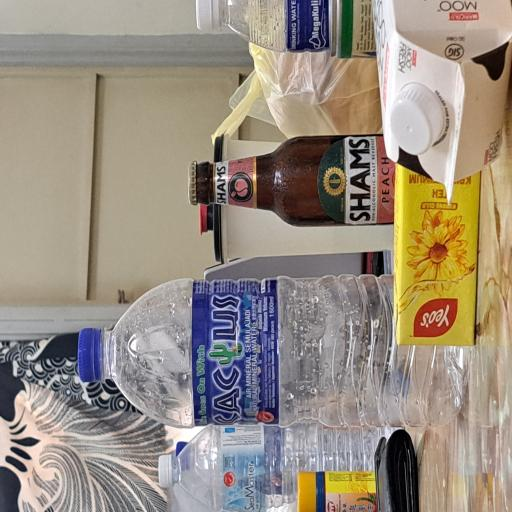can: (342, 436, 384, 503)
glass bottle: (213, 249, 284, 512)
plastic bottle: (64, 135, 179, 512), (0, 230, 66, 510), (344, 294, 384, 439)
plastic bottle cap: (96, 104, 138, 136), (360, 260, 384, 292), (18, 211, 44, 229)
